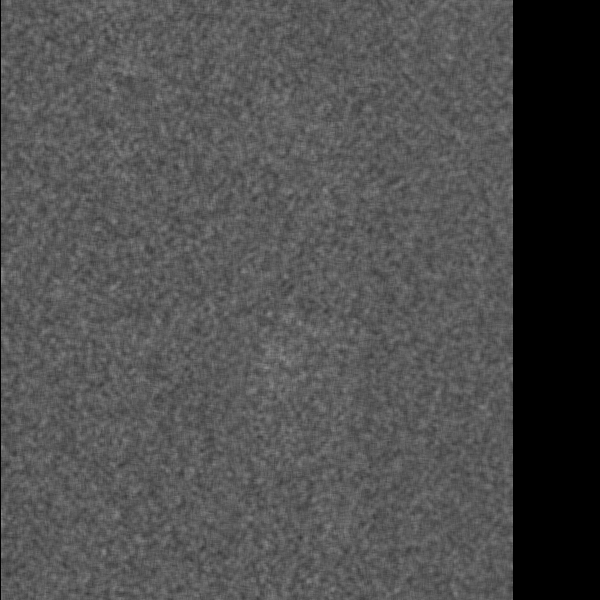spark: (449, 206, 487, 242), (82, 489, 108, 517)
